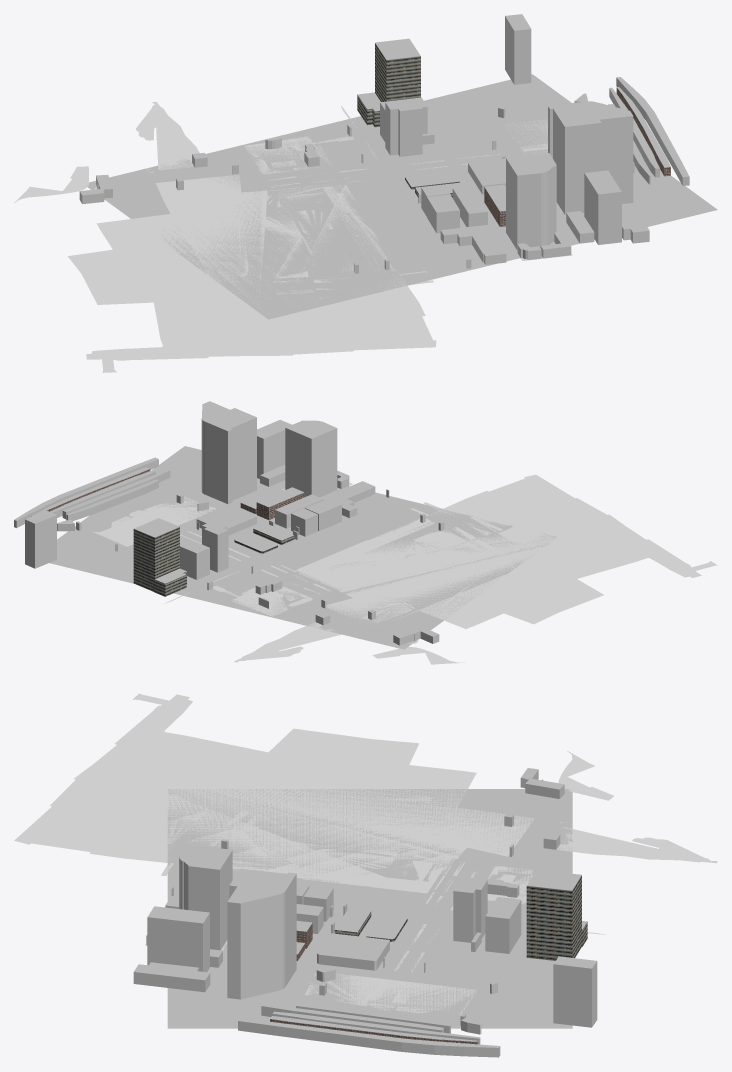
File: Tokyo_Final.fbx
The picture shows the model from 3 angles, top to bottom: view 1: azimuth 30°, elevation 25°; view 2: azimuth 150°, elevation 25°; view 3: azimuth 270°, elevation 25°; orthographic projection. The views are drawn at different scales.
Visible parts, largest first — view 1: EXPORT_GOOGLE_SAT_WM, Areas:leisure, Areas:building, Roof, Areas:landuse, Areas:natural; view 2: Areas:leisure, EXPORT_GOOGLE_SAT_WM, Areas:building, Areas:landuse, Roof, Areas:natural; view 3: Areas:leisure, EXPORT_GOOGLE_SAT_WM, Areas:building, Roof, Areas:landuse, Areas:natural.
Boxes of the visible parts, x1,y1,x2,y2 form: EXPORT_GOOGLE_SAT_WM: (87, 74, 717, 319); Areas:leisure: (68, 119, 547, 372); Areas:building: (79, 16, 689, 273); Roof: (80, 14, 689, 264); Areas:landuse: (14, 101, 572, 343); Areas:natural: (248, 137, 394, 270); Areas:leisure: (93, 474, 717, 628); EXPORT_GOOGLE_SAT_WM: (49, 446, 556, 649); Areas:building: (14, 417, 444, 645); Areas:landuse: (134, 482, 625, 664); Roof: (14, 401, 443, 638); Areas:natural: (232, 520, 429, 615); Areas:leisure: (14, 693, 534, 1015); EXPORT_GOOGLE_SAT_WM: (167, 789, 572, 1028); Areas:building: (133, 770, 597, 1057); Roof: (134, 768, 596, 1047); Areas:landuse: (110, 750, 717, 1003); Areas:natural: (233, 860, 532, 902).
Bounding box in the file's own units: 162580 × 20000 × 132856.
